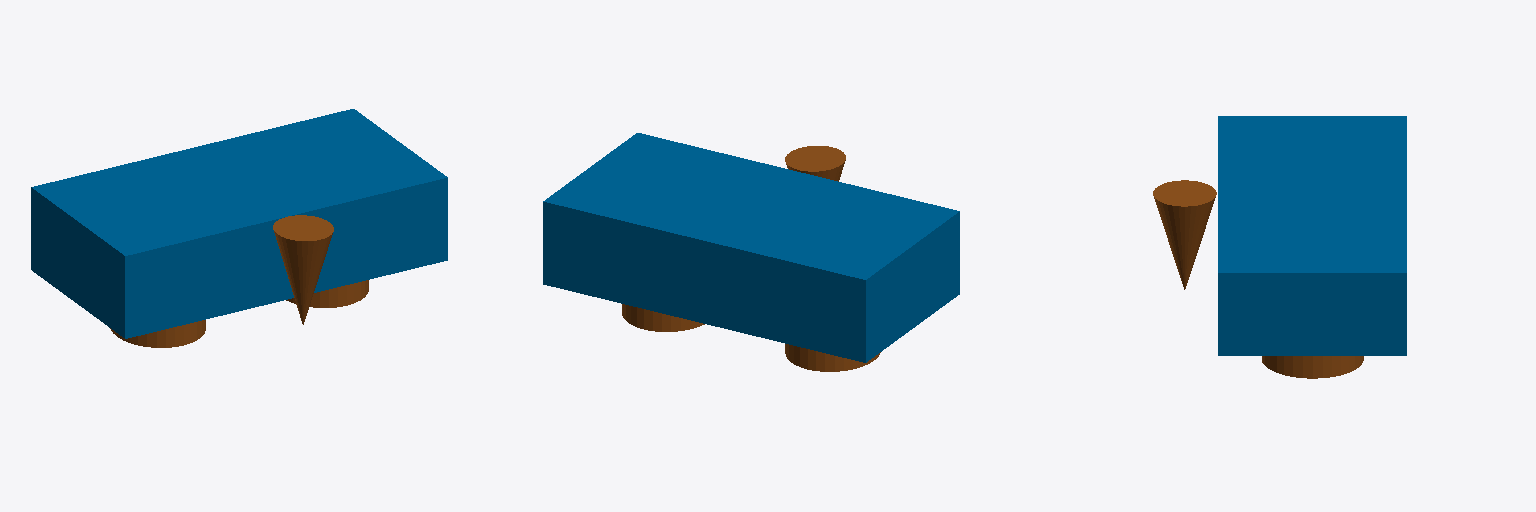
The model's file is paddle-gun.obj.
The picture shows the model from 3 angles: view 1: azimuth 30°, elevation 25°; view 2: azimuth 150°, elevation 25°; view 3: azimuth 270°, elevation 25°; orthographic projection.
Visible parts, largest first — view 1: paddle; view 2: paddle; view 3: paddle.
Boxes of the visible parts, box(x1,y1,x2,y2) form: paddle: box(31, 109, 447, 347); paddle: box(543, 133, 959, 371); paddle: box(1153, 116, 1406, 378).
Bounding box in the file's own units: 3.95 × 1.47 × 2.7.